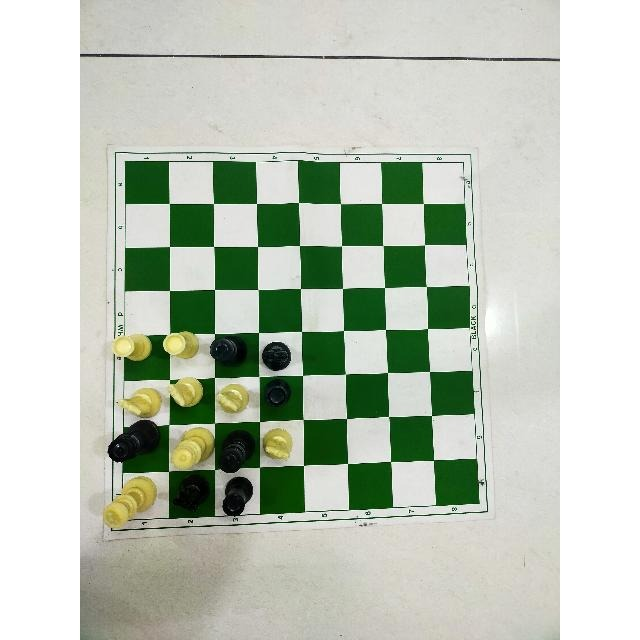black-king: (214, 427, 257, 477), (206, 334, 252, 370)
black-knight: (170, 474, 212, 514), (262, 337, 294, 371)
black-queen: (102, 416, 163, 470)
black-rook: (218, 475, 255, 519), (261, 376, 295, 409)
white-king: (101, 473, 163, 530)
white-knight: (116, 384, 162, 421), (165, 374, 209, 412), (259, 425, 297, 463), (213, 380, 251, 418)
white-queen: (168, 423, 215, 471)
white-rook: (108, 328, 155, 364), (159, 327, 200, 363)
